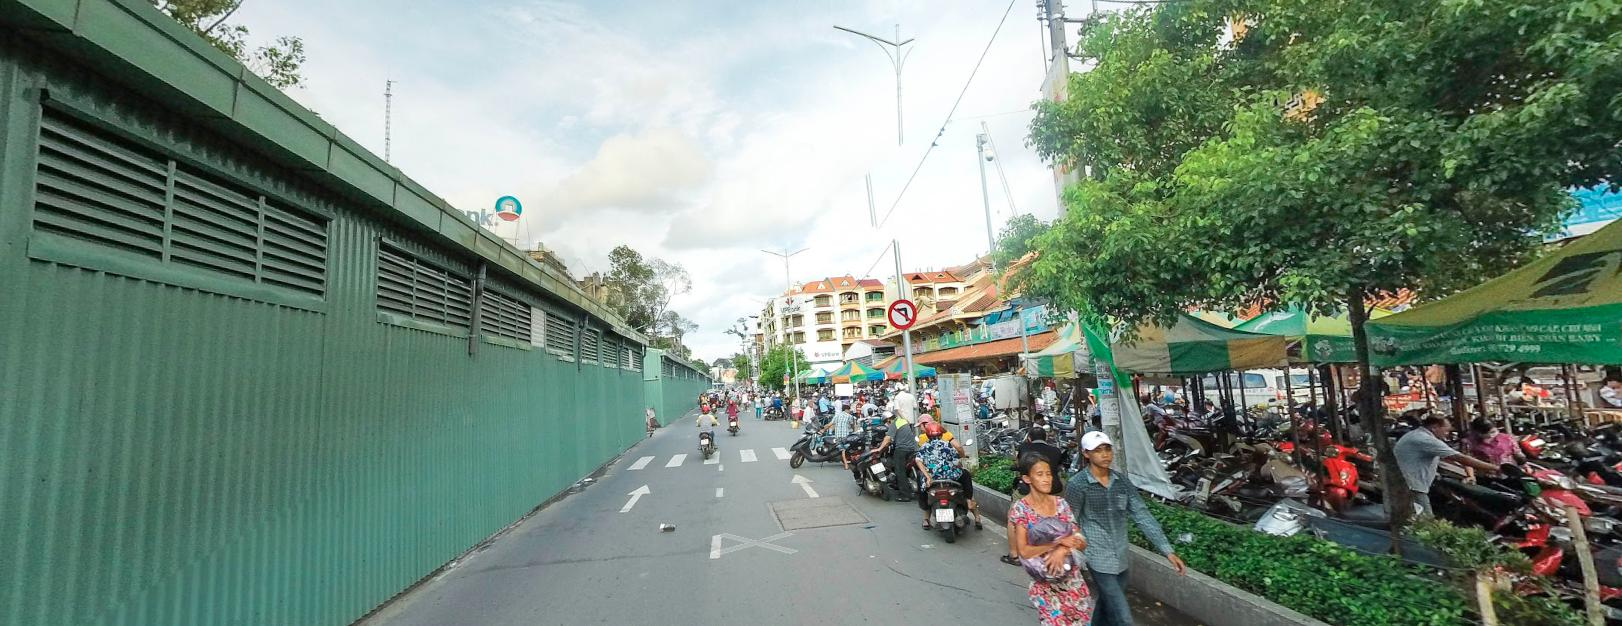Cam re: (887, 297, 917, 328)
